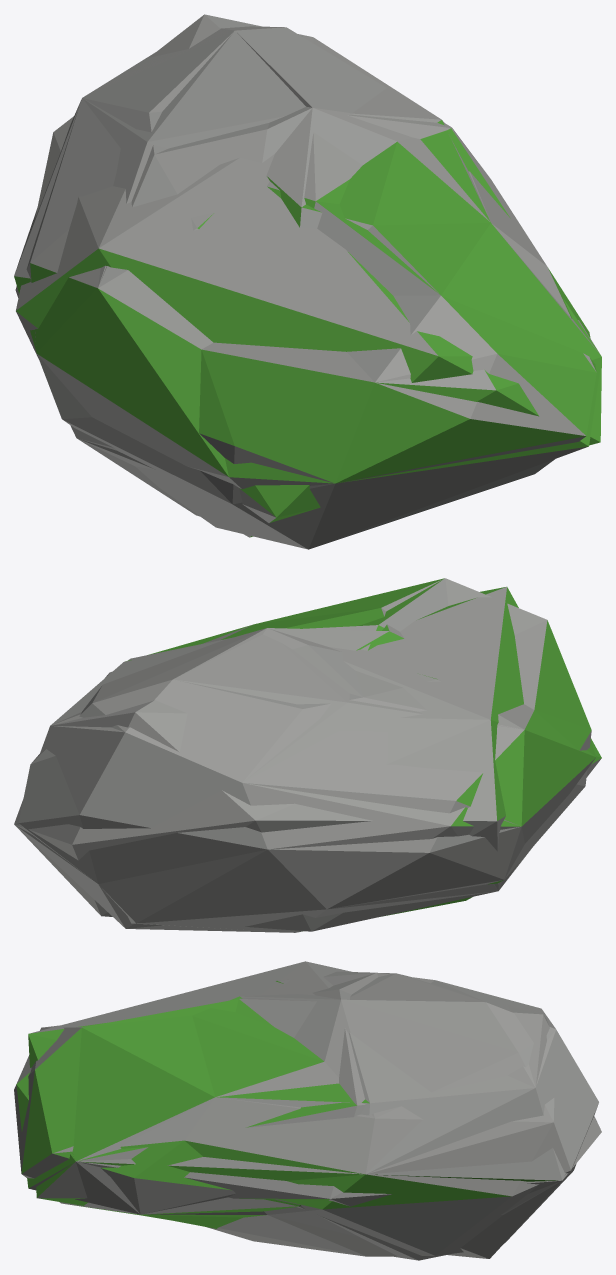
File: stone_02_LOD.fbx
3 renders of one model, top to bottom at view 1: azimuth 30°, elevation 25°; view 2: azimuth 150°, elevation 25°; view 3: azimuth 270°, elevation 25°, orthographic. The views are drawn at different scales.
Visible parts, largest first — view 1: stone2_0, stone2_1, stone2_2; view 2: stone2_0, stone2_1, stone2_2; view 3: stone2_0, stone2_1, stone2_2.
Boxes of the visible parts, x1,y1,x2,y2 form: stone2_0: [15, 26, 596, 549]; stone2_1: [14, 29, 601, 549]; stone2_2: [16, 14, 601, 537]; stone2_0: [18, 578, 591, 932]; stone2_1: [14, 578, 595, 932]; stone2_2: [14, 586, 601, 931]; stone2_0: [14, 971, 598, 1256]; stone2_1: [16, 973, 598, 1260]; stone2_2: [28, 961, 601, 1258].
Bounding box in the file's own units: 25.35 × 16.57 × 34.77.
